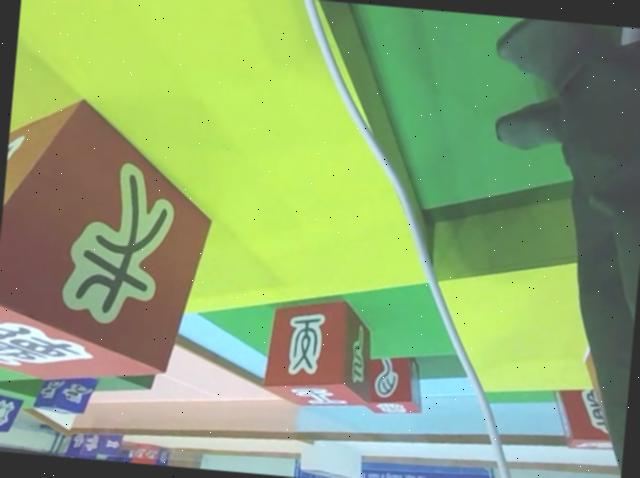R2 Fake: (0, 89, 221, 392), (259, 293, 379, 411), (362, 350, 426, 420)
